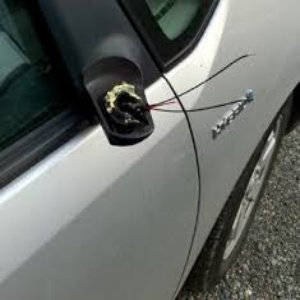side_mirror: (74, 55, 164, 148)
